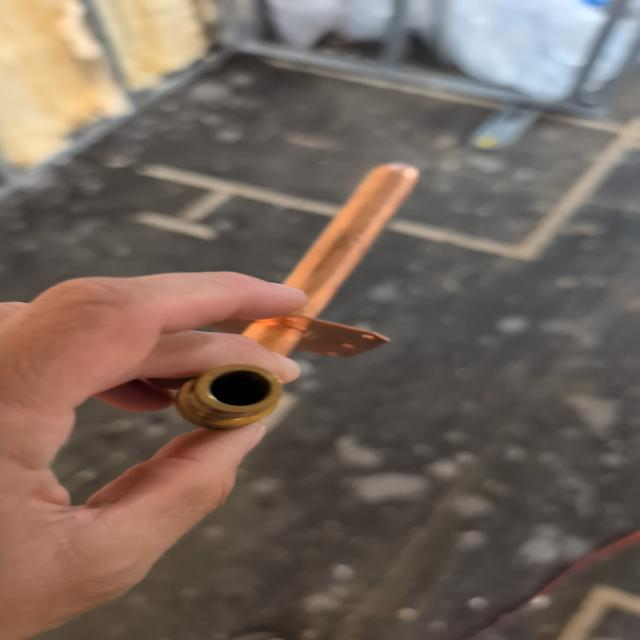wall_flange: (176, 142, 420, 428)
